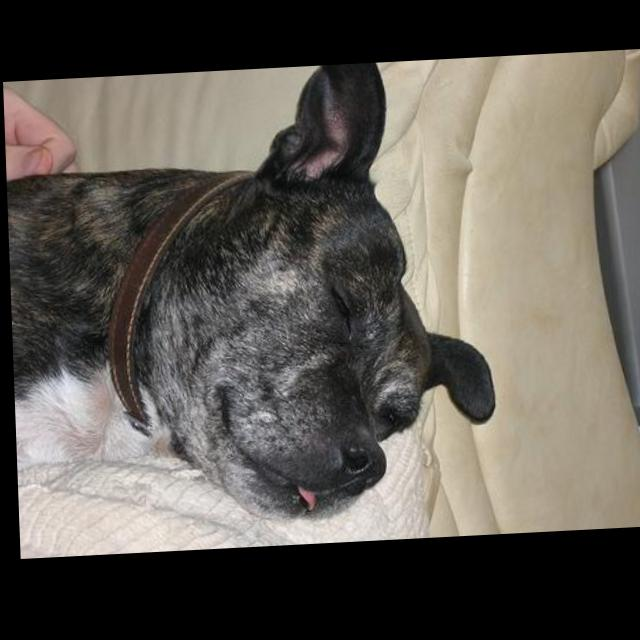staffford: (3, 63, 499, 538)
